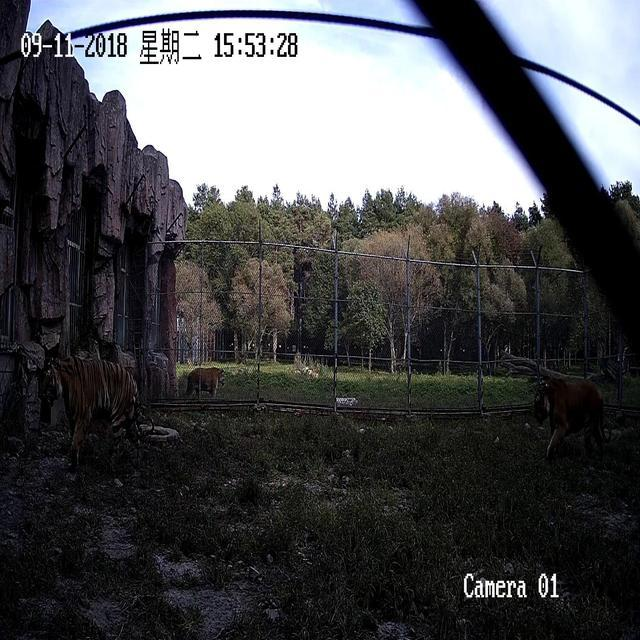tiger: (50, 354, 141, 470), (531, 373, 606, 460), (185, 366, 223, 399)
